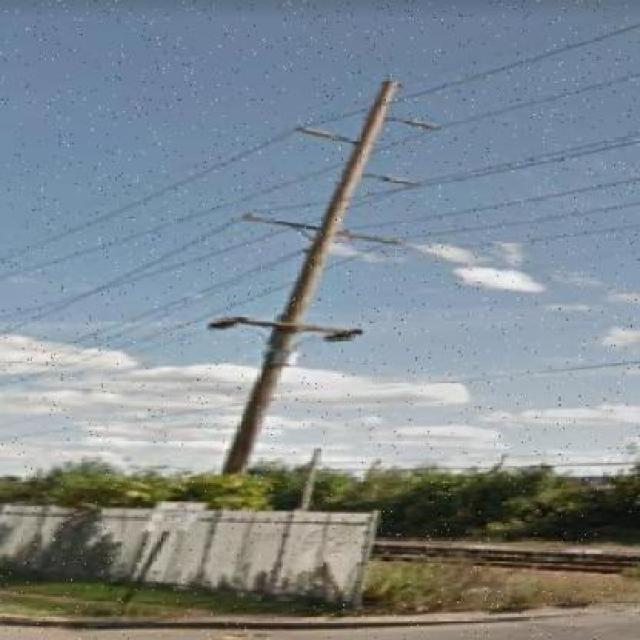pole: (187, 30, 461, 578)
